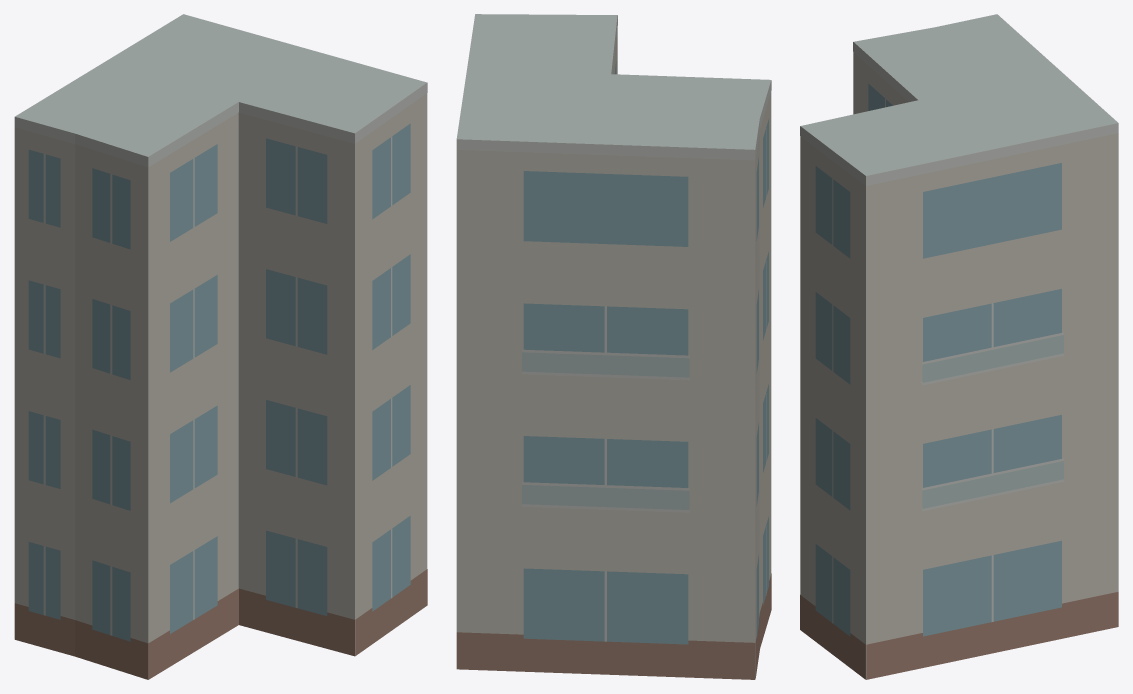
The model's file is survey-upis-32897518.glb.
The picture shows the model from 3 angles, left to right: view 1: azimuth 30°, elevation 25°; view 2: azimuth 150°, elevation 25°; view 3: azimuth 270°, elevation 25°; orthographic projection. The views are drawn at different scales.
Parts seen in each view (by area): view 1: survey-upis-32897518.tmp; view 2: survey-upis-32897518.tmp; view 3: survey-upis-32897518.tmp.
Part boxes in pixels (x1,y1,x2,y2): survey-upis-32897518.tmp: (14,14,427,679); survey-upis-32897518.tmp: (456,14,771,679); survey-upis-32897518.tmp: (800,14,1118,679).
Bounding box in the file's own units: 8.46 × 12.25 × 7.03.
